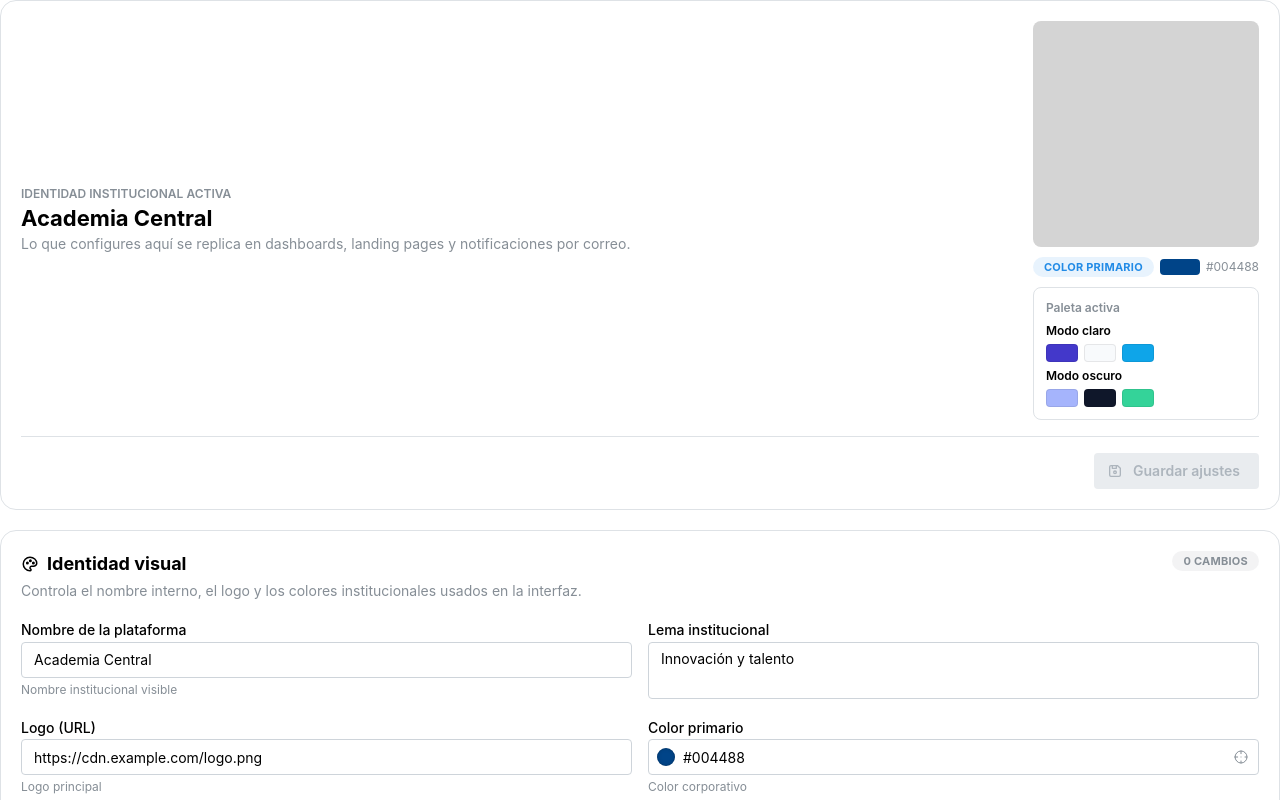
ApplicationSettings › permite modificar campos y guardar los cambios
Replace the text in the field labelled "Color primario" with "#112233" at (954, 758), box [648, 740, 1259, 776]
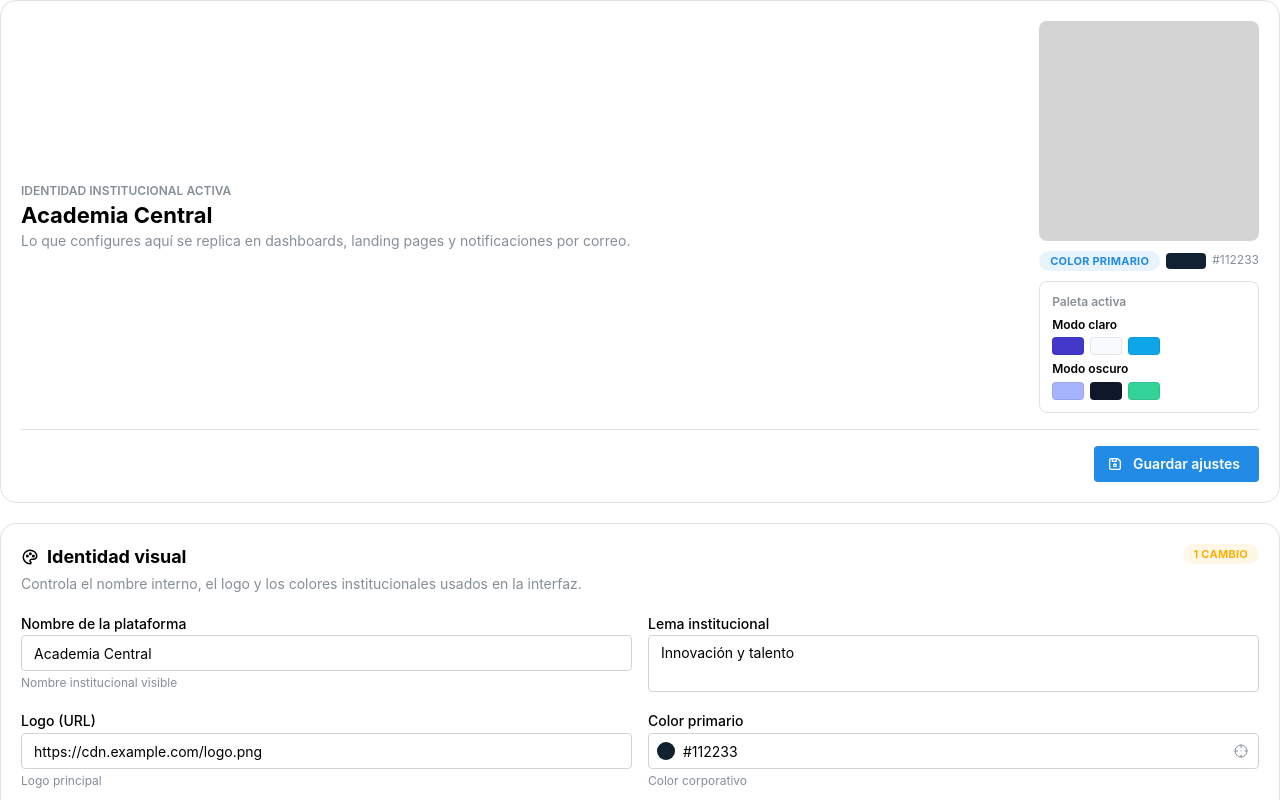
expect the text "1 cambio" is shown: met, box [1194, 545, 1248, 563]
expect the button "Guardar ajustes" is enabled: met
Click the button "Guardar ajustes".
click(1176, 464)  # box [1094, 446, 1259, 482]
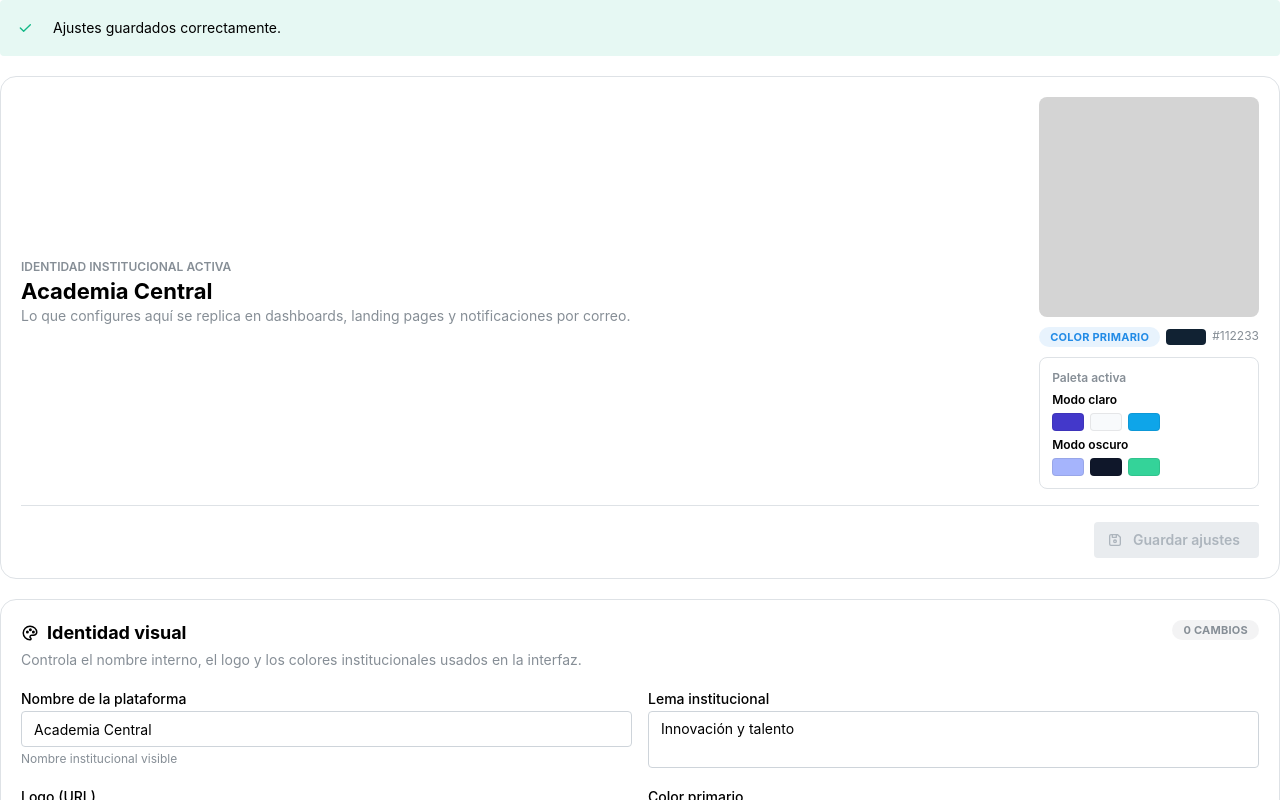
expect the text "Ajustes guardados correctamente." is shown: met, box [53, 19, 281, 36]
expect the button "Guardar ajustes" is disabled: met, box [1094, 522, 1259, 558]
